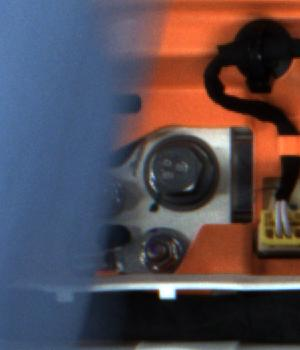nut_b: (141, 134, 221, 211)
